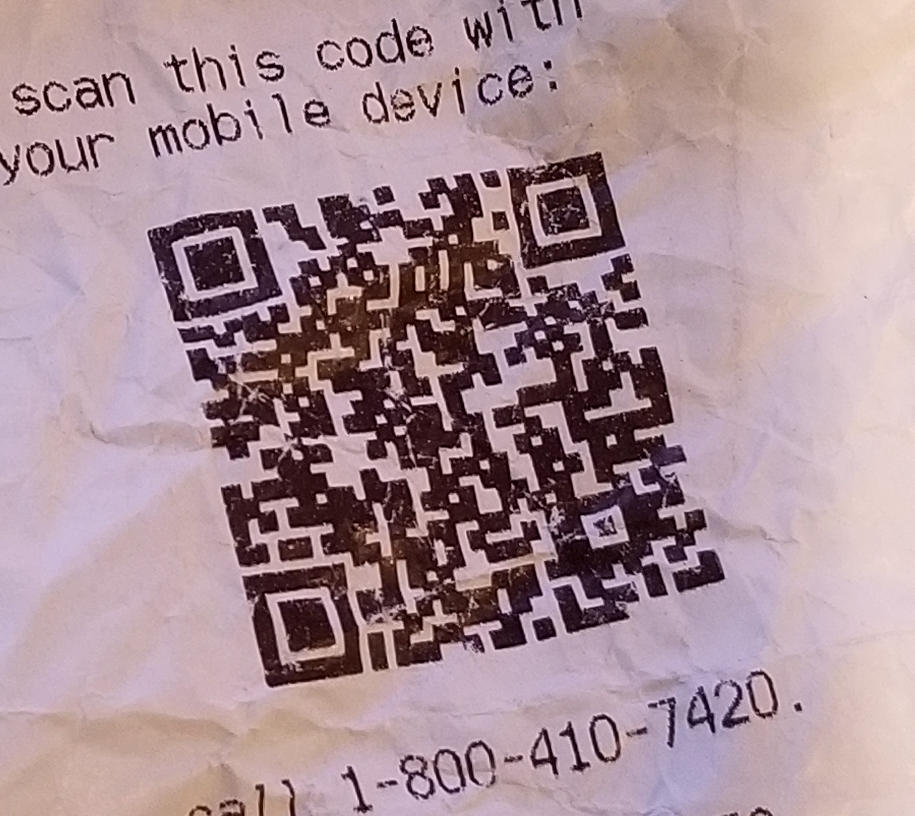QR_CODE: (133, 136, 743, 699)
